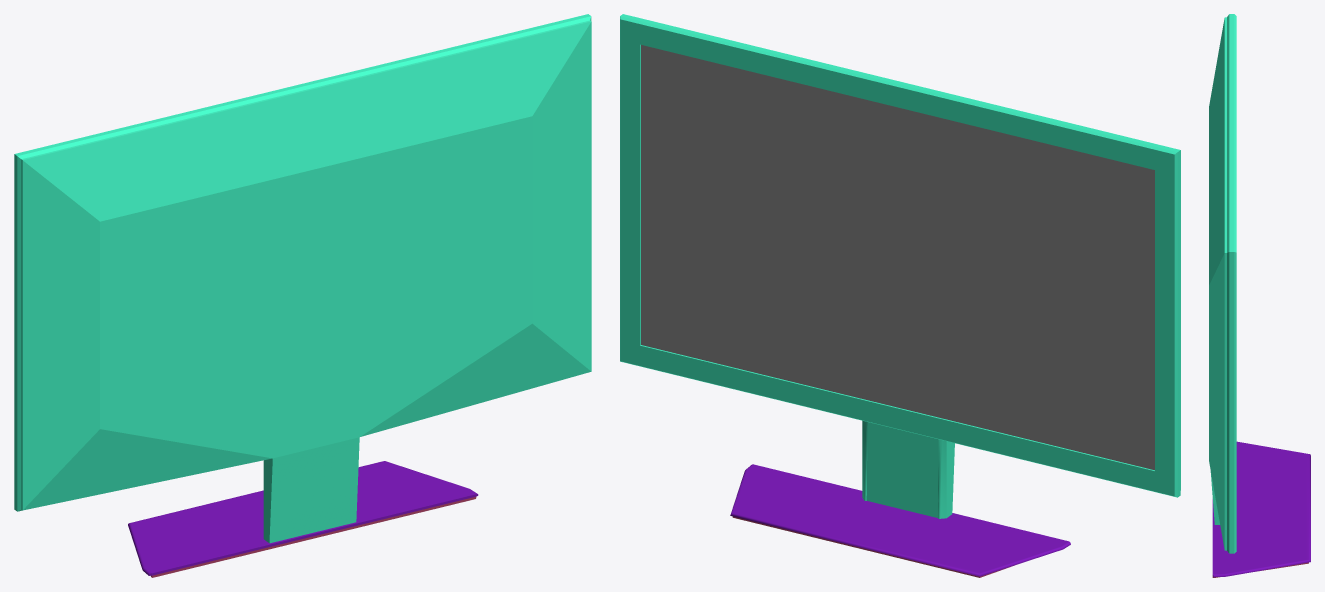
The model's file is Monitor.FBX.
3 views of the same model, side by side, from view 1: azimuth 30°, elevation 25°; view 2: azimuth 150°, elevation 25°; view 3: azimuth 270°, elevation 25° (orthographic). The views are drawn at different scales.
Visible parts, largest first — view 1: Box003; view 2: Box003; view 3: Box003.
Part boxes in pixels (x1=…): Box003: x1=14, y1=14, x2=591, y2=577; Box003: x1=620, y1=14, x2=1180, y2=577; Box003: x1=1209, y1=14, x2=1310, y2=577.
Size of the model in its own units: 26.27 by 19.47 by 4.75.
